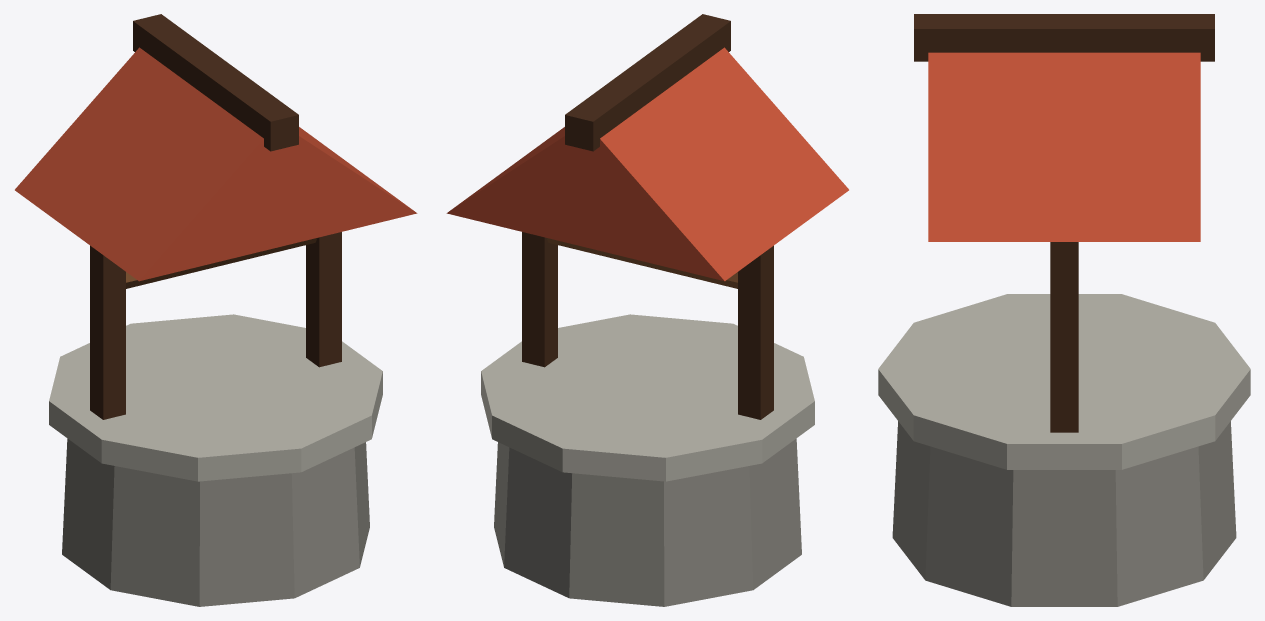
The model's file is well.glb.
3 views of the same model, side by side, from view 1: azimuth 30°, elevation 25°; view 2: azimuth 150°, elevation 25°; view 3: azimuth 270°, elevation 25° (orthographic). The views are drawn at different scales.
Visible parts, largest first — view 1: roof_body, well_rim, well_base, roof_ridge, post_l, post_r, axle; view 2: roof_body, well_rim, well_base, roof_ridge, post_l, post_r, axle; view 3: roof_body, well_rim, well_base, roof_ridge, post_r.
Part boxes in pixels (x1,y1,x2,y2): roof_body: (15, 47, 417, 281); well_rim: (49, 314, 382, 481); well_base: (62, 438, 369, 606); roof_ridge: (133, 14, 298, 151); post_l: (90, 245, 125, 419); post_r: (306, 232, 341, 367); axle: (126, 238, 317, 288); roof_body: (446, 47, 848, 281); well_rim: (481, 314, 814, 481); well_base: (494, 438, 801, 606); roof_ridge: (565, 14, 730, 151); post_l: (738, 245, 773, 419); post_r: (522, 232, 557, 367); axle: (546, 238, 737, 288); roof_body: (928, 52, 1200, 241); well_rim: (878, 294, 1250, 469); well_base: (892, 421, 1236, 606); roof_ridge: (914, 14, 1214, 61); post_r: (1050, 242, 1078, 432).
Bounding box in the file's own units: 0.9891 × 1.59 × 1.04.
